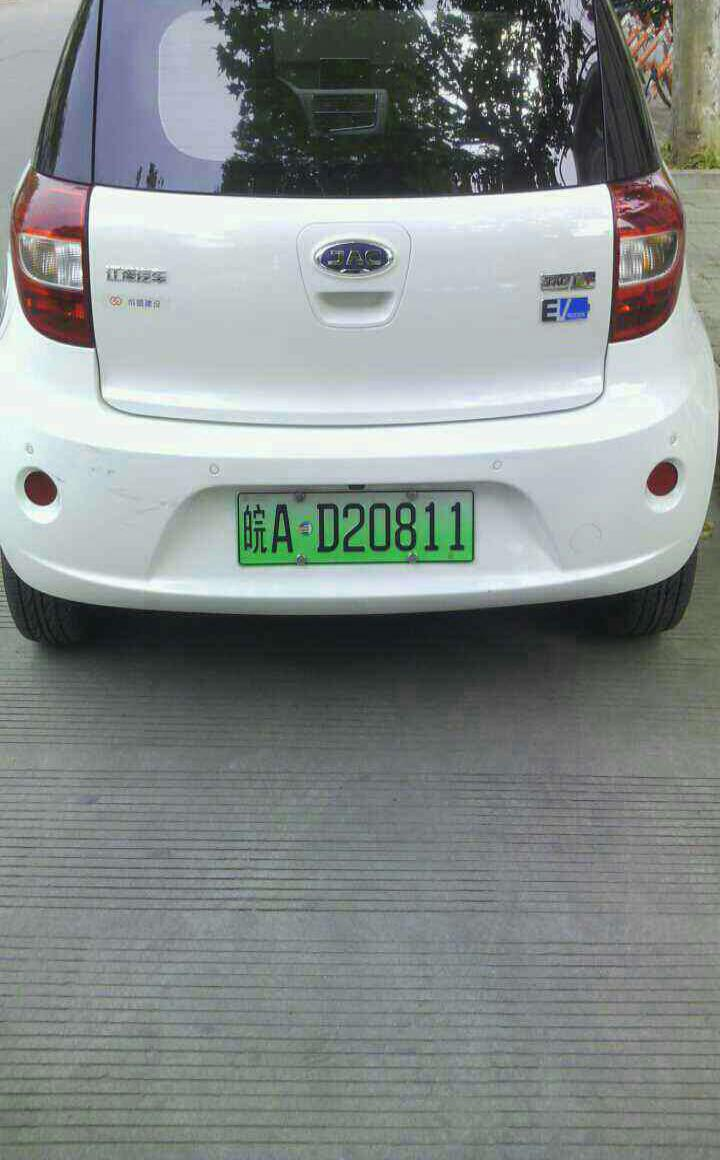car_green: (232, 487, 483, 571)
